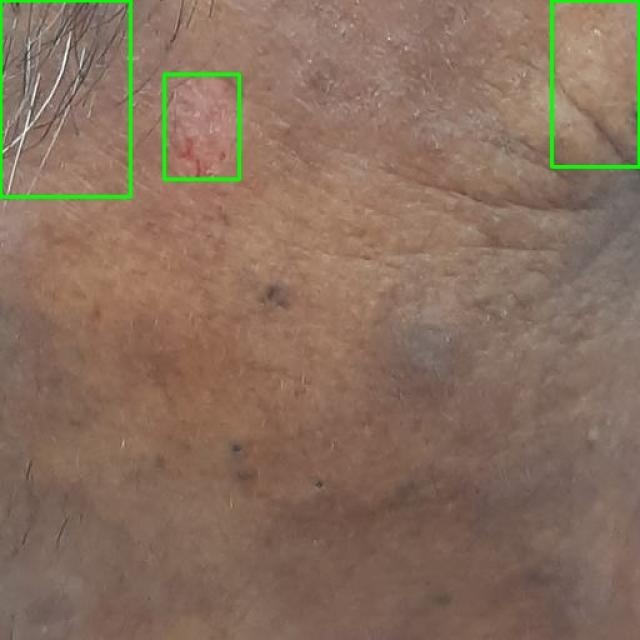Contact Dermatitis: (0, 0, 130, 196), (551, 0, 639, 166), (164, 74, 239, 179)
